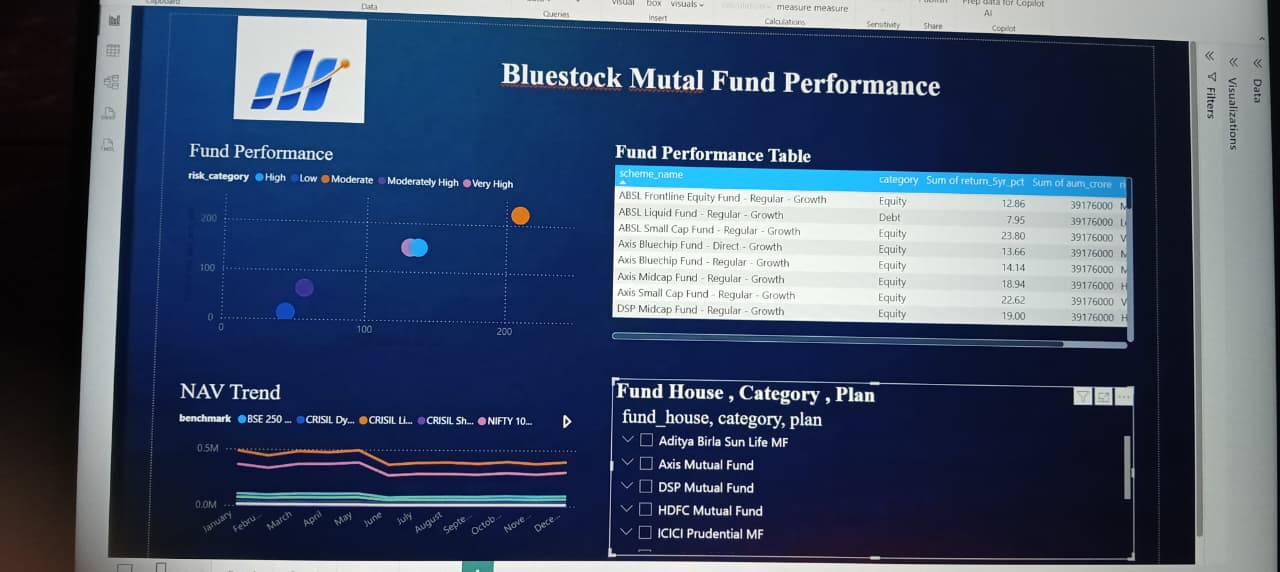

What the dashboard file says about the page in this screenshot:
{"tool":"powerbi","page":{"name":"Page 2","canvas":[1280,720],"ordinal":1},"visuals":[{"type":"tableEx","title":"Fund Performance Table","fields":{"Values":["01_fund_master.scheme_name","01_fund_master.category","Sum(07_scheme_performance.return_5yr_pct)","Sum(03_aum_by_fund_house.aum_crore)","01_fund_master.risk_category"]},"box":[560,175,693.3,263.3],"z":0},{"type":"scatterChart","title":"    Fund Performance","fields":{"X":["Sum(07_scheme_performance.return_5yr_pct)"],"Series":["01_fund_master.risk_category"],"Y":["Sum(07_scheme_performance.std_dev_ann_pct)"],"Size":["Sum(03_aum_by_fund_house.aum_crore)"]},"box":[38.3,175,503.3,263.3],"z":1000},{"type":"lineChart","title":"NAV Trend","fields":{"Category":["02_nav_history (2).date.Variation.Date Hierarchy.Month"],"Y":["Sum(02_nav_history (2).nav)"],"Series":["01_fund_master.benchmark"]},"box":[26.7,460,503.3,223.3],"z":2000},{"type":"slicer","title":"Fund House , Category , Plan","fields":{"Values":["01_fund_master.fund_house","01_fund_master.category","01_fund_master.plan"]},"box":[560,460,680,223.3],"z":3000},{"type":"image","box":[38.3,0,253.3,133.3],"z":4000},{"type":"textbox","box":[291.7,0,823.3,118.3],"z":5000}]}

Visuals, with their boxes on the page's 1280x720 design canvas (x1, y1, x2, y2). These are canvas units, not pixel positions in the 1280x572 screenshot, which may show the page scaled, cropped or inside an application window:
"Fund Performance Table" tableEx: x1=560 y1=175 x2=1253 y2=438
"    Fund Performance" scatterChart: x1=38 y1=175 x2=542 y2=438
"NAV Trend" lineChart: x1=27 y1=460 x2=530 y2=683
"Fund House , Category , Plan" slicer: x1=560 y1=460 x2=1240 y2=683
image: x1=38 y1=0 x2=292 y2=133
textbox: x1=292 y1=0 x2=1115 y2=118
